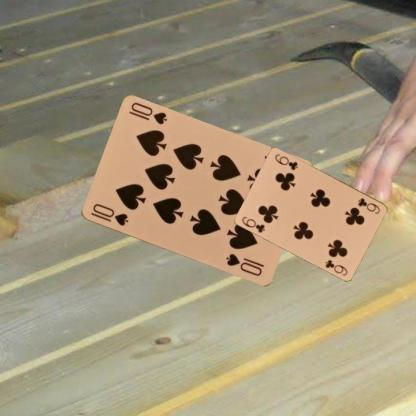10s: (88, 201, 130, 228)
6c: (239, 214, 266, 234), (356, 195, 382, 215)
